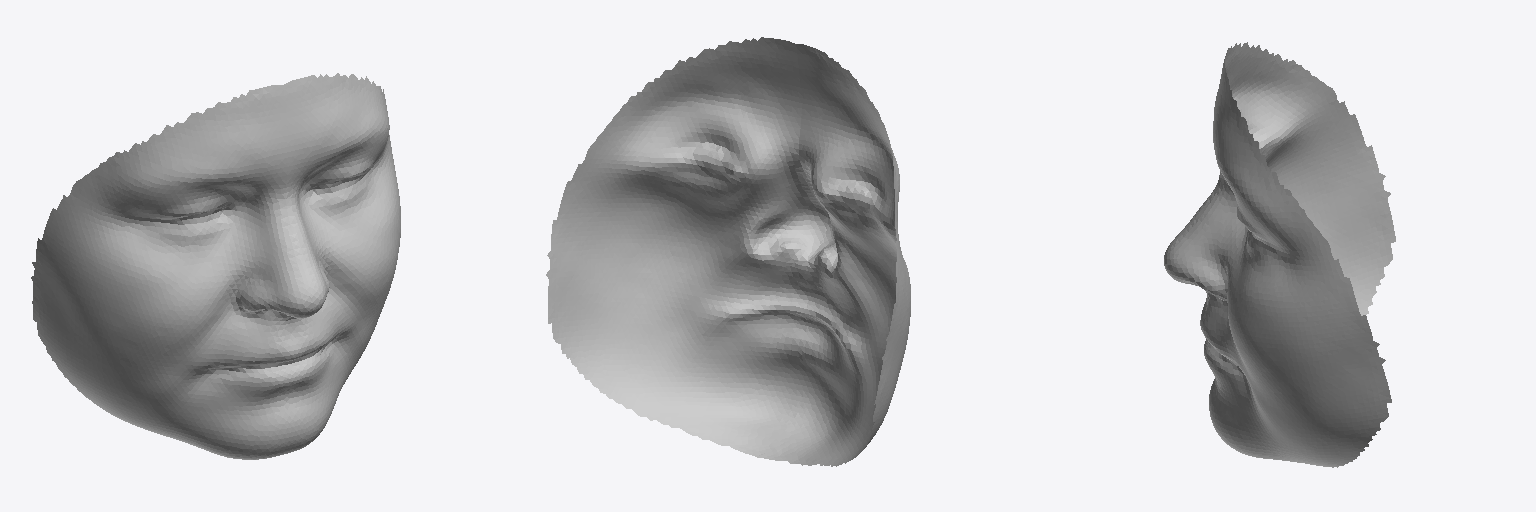
The model's file is SIMPOP_07.obj.
The picture shows the model from 3 angles: view 1: azimuth 30°, elevation 25°; view 2: azimuth 150°, elevation 25°; view 3: azimuth 270°, elevation 25°; orthographic projection.
Parts seen in each view (by area): view 1: SIMPOP_07; view 2: SIMPOP_07; view 3: SIMPOP_07.
Part boxes in pixels (x1,y1,x2,y2): SIMPOP_07: (31,73,400,459); SIMPOP_07: (546,37,910,466); SIMPOP_07: (1164,42,1395,467).
Size of the model in its own units: 142 by 153 by 83.46.